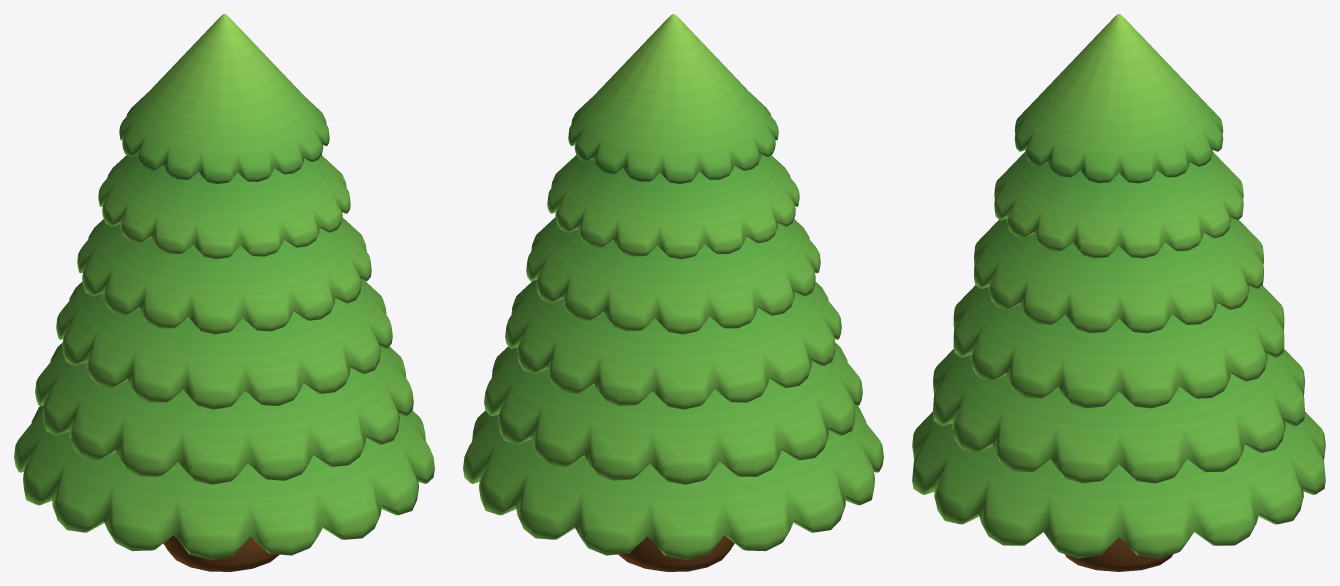
File: sm_forest_pinetree.fbx
The picture shows the model from 3 angles, left to right: view 1: azimuth 30°, elevation 25°; view 2: azimuth 150°, elevation 25°; view 3: azimuth 270°, elevation 25°; orthographic projection.
Parts seen in each view (by area): view 1: sm_forest_pinetree; view 2: sm_forest_pinetree; view 3: sm_forest_pinetree.
Boxes of the visible parts, box(x1,y1,x2,y2) form: sm_forest_pinetree: box(14, 14, 434, 571); sm_forest_pinetree: box(463, 14, 883, 571); sm_forest_pinetree: box(912, 14, 1325, 571).
Bounding box in the file's own units: 639 × 639 × 922.
